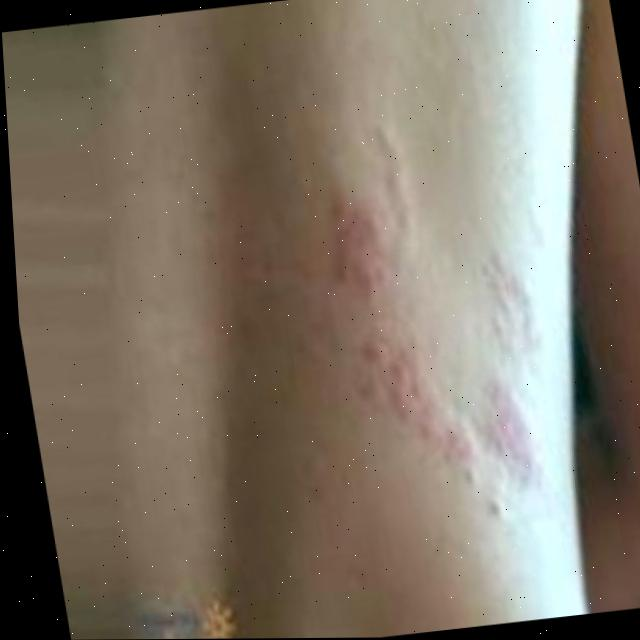Shingles: (308, 183, 565, 501)
